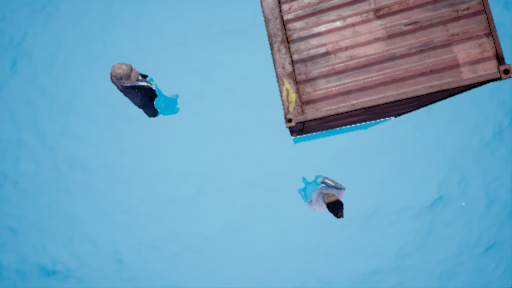person: (104, 60, 177, 124), (298, 173, 355, 219)
